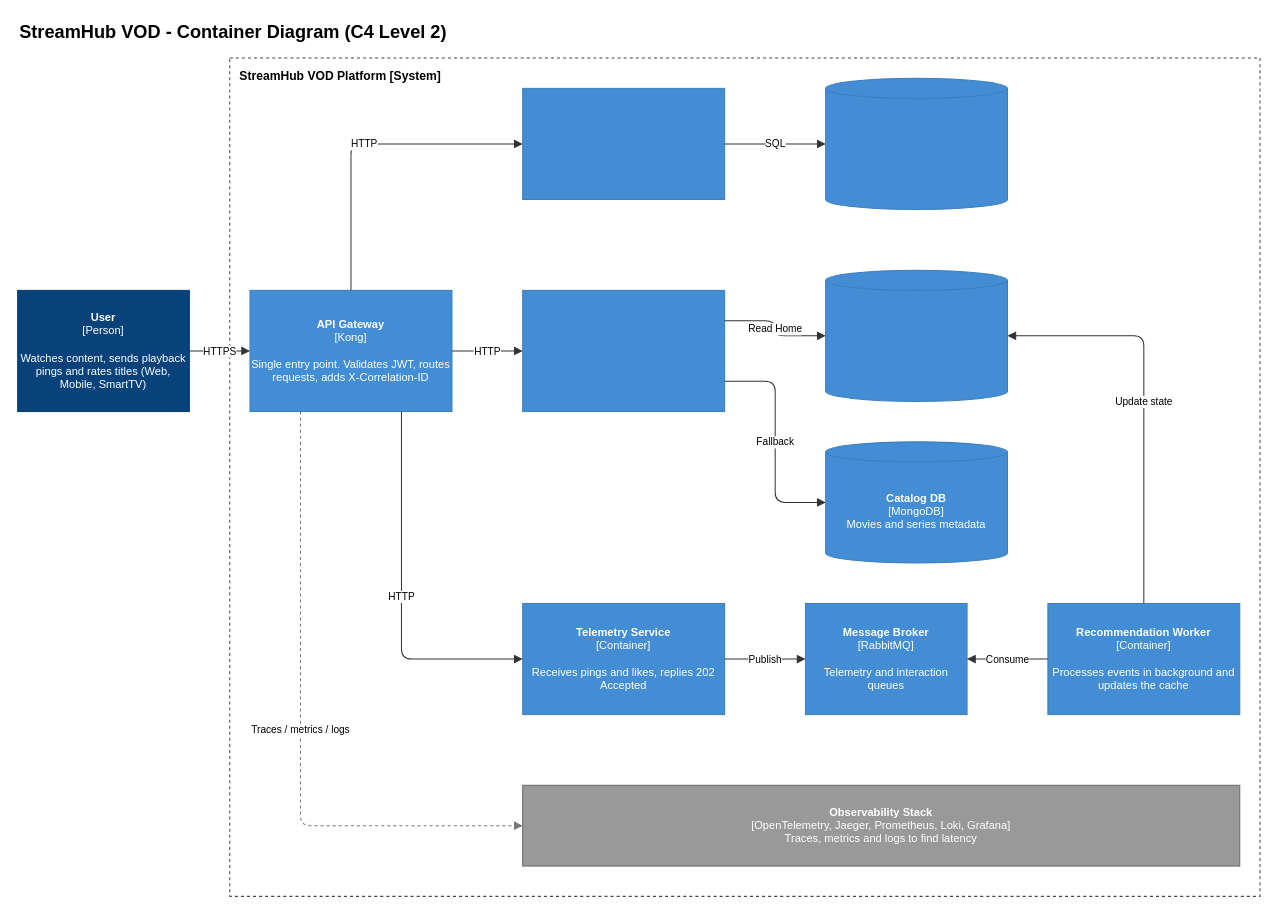
Image size: 1278x914. Some labels were removed from this diagram. Each missing label, with the centre of its shape:
"Auth & Profile Service [Container] Master accounts and family subprofiles" belongs at point (623, 143).
"Auth DB [PostgreSQL] Accounts and subprofiles" belongs at point (916, 143).
"Cache [Redis] Precomputed Home view and Continue Watching" belongs at point (916, 335).
"Catalog & Home Service [Container] Serves the Home screen and catalog metadata" belongs at point (623, 350).
